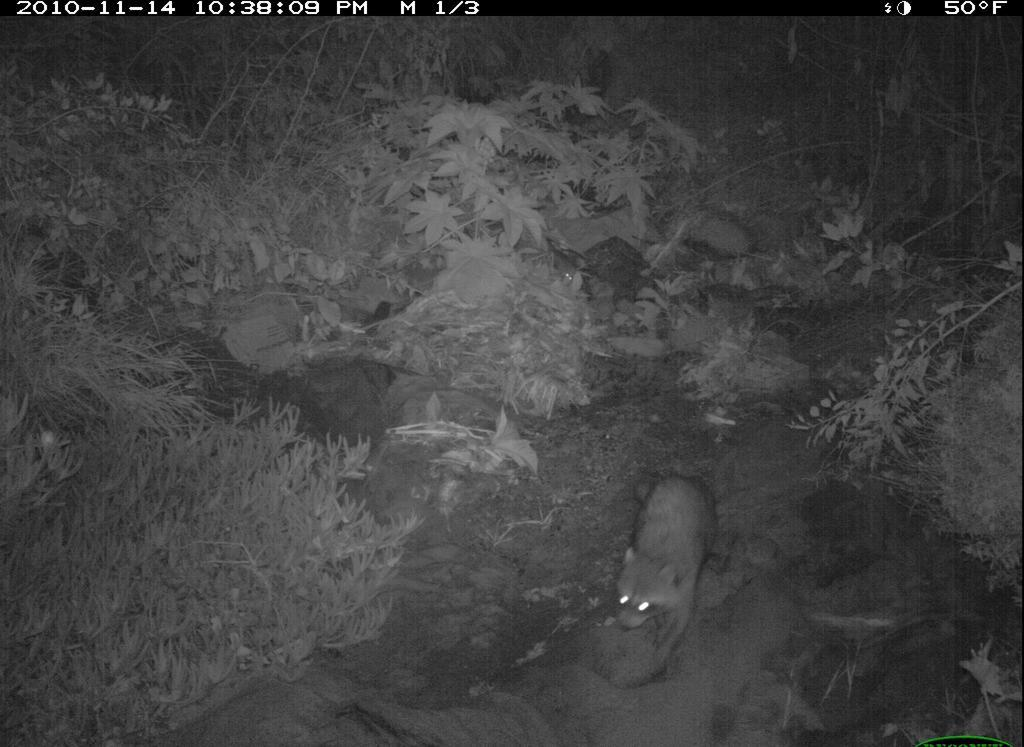raccoon: (607, 452, 724, 676)
